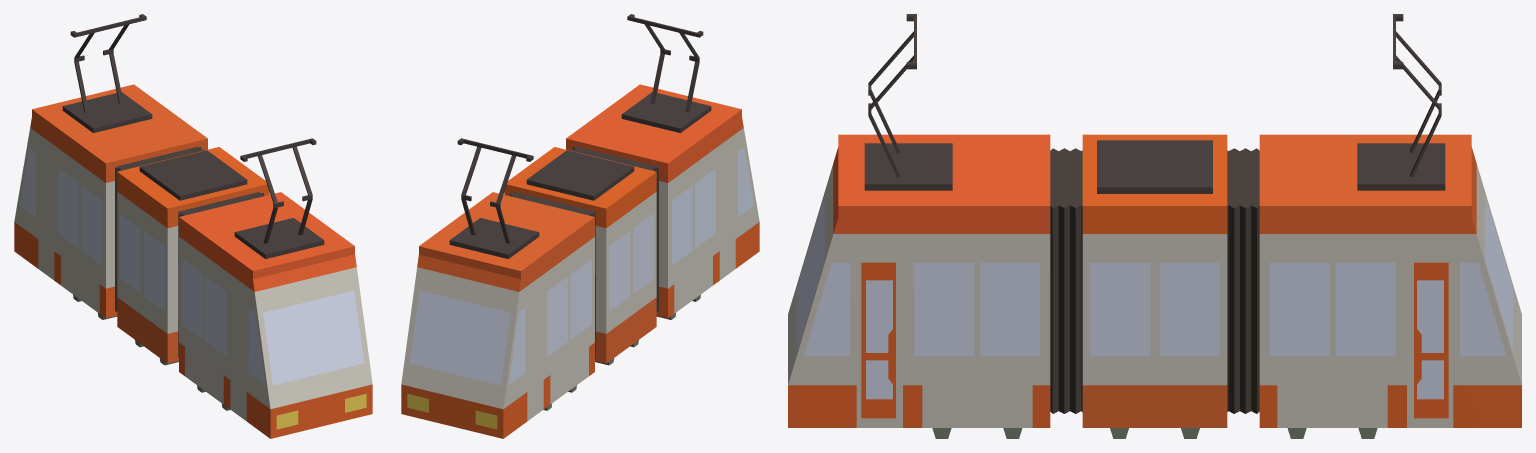
The model's file is subway_1.glb.
The picture shows the model from 3 angles, left to right: view 1: azimuth 30°, elevation 25°; view 2: azimuth 150°, elevation 25°; view 3: azimuth 270°, elevation 25°; orthographic projection. The views are drawn at different scales.
Parts seen in each view (by area): view 1: Tram_3; view 2: Tram_3; view 3: Tram_3.
Part boxes in pixels (x1,y1,x2,y2): Tram_3: [14, 14, 372, 438]; Tram_3: [401, 14, 759, 438]; Tram_3: [788, 14, 1521, 438].
Bounding box in the file's own units: 0.219 × 0.5285 × 0.9513.
1 material, 1 textured.
